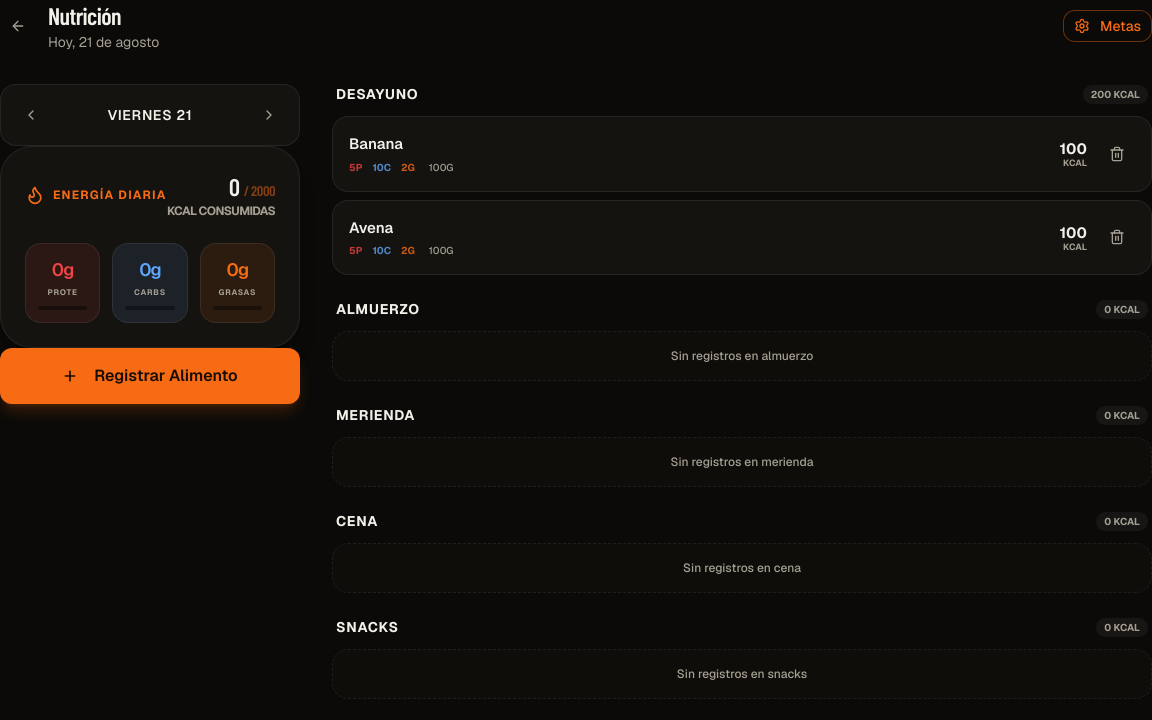
Test case: nutrition diary — deleting the right entry, and only it › names the entry it is about to delete
Check: the text "Avena" is shown, box [349,218,393,236]
Click the 2nd button named "Eliminar registro": (1117, 237) [1099,219,1135,255]
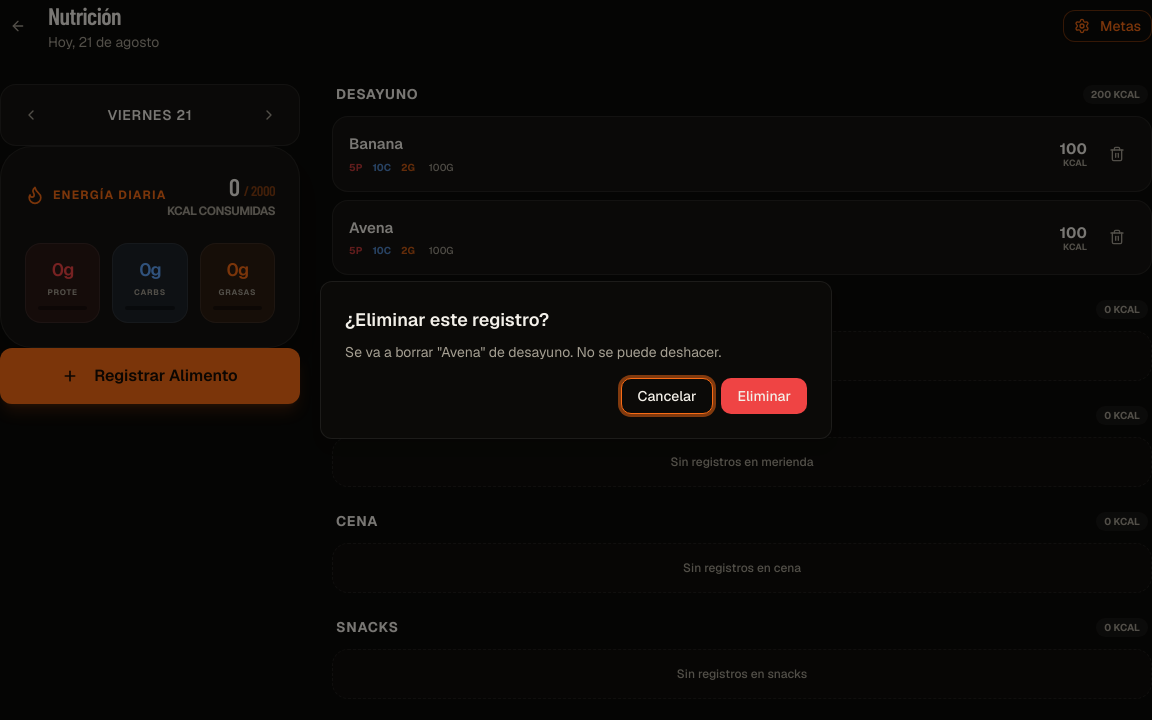
Check: the text "Se va a borrar \"Avena\" de desayuno. No se puede deshacer." is shown, box [345,343,721,361]
